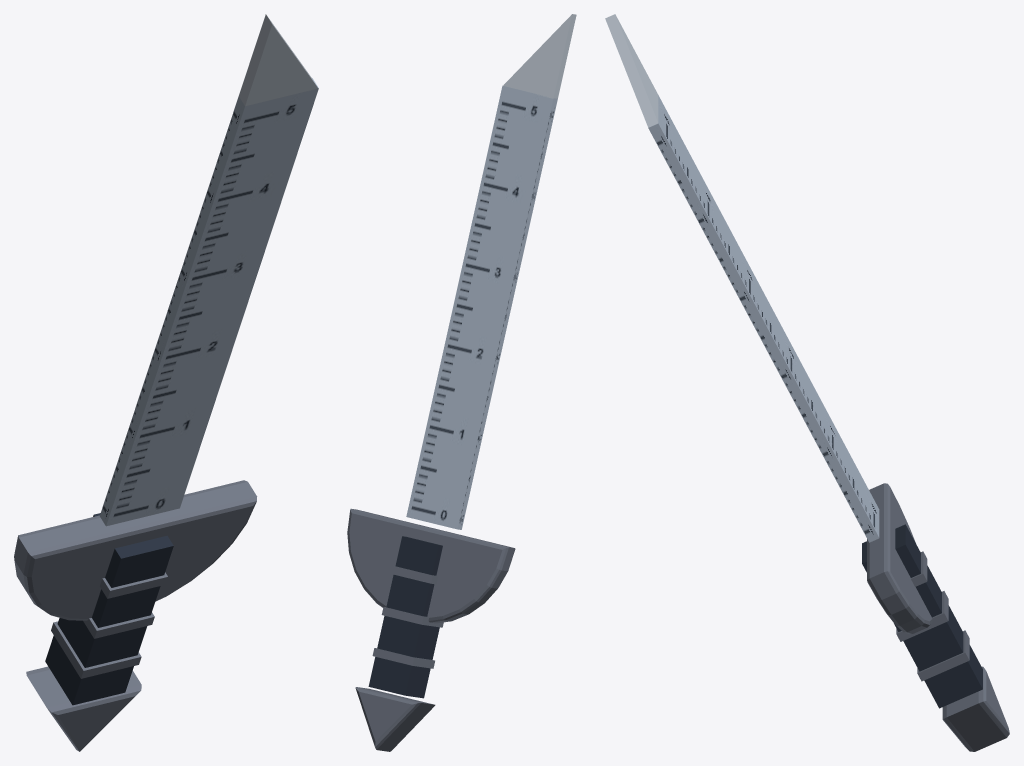
File: hand_eqsu0.glb
3 renders of one model, left to right at view 1: azimuth 30°, elevation 25°; view 2: azimuth 150°, elevation 25°; view 3: azimuth 270°, elevation 25°, orthographic. The views are drawn at different scales.
Bounding box in the file's own units: 1.27 × 4.83 × 2.45.
4 materials, 1 textured.
